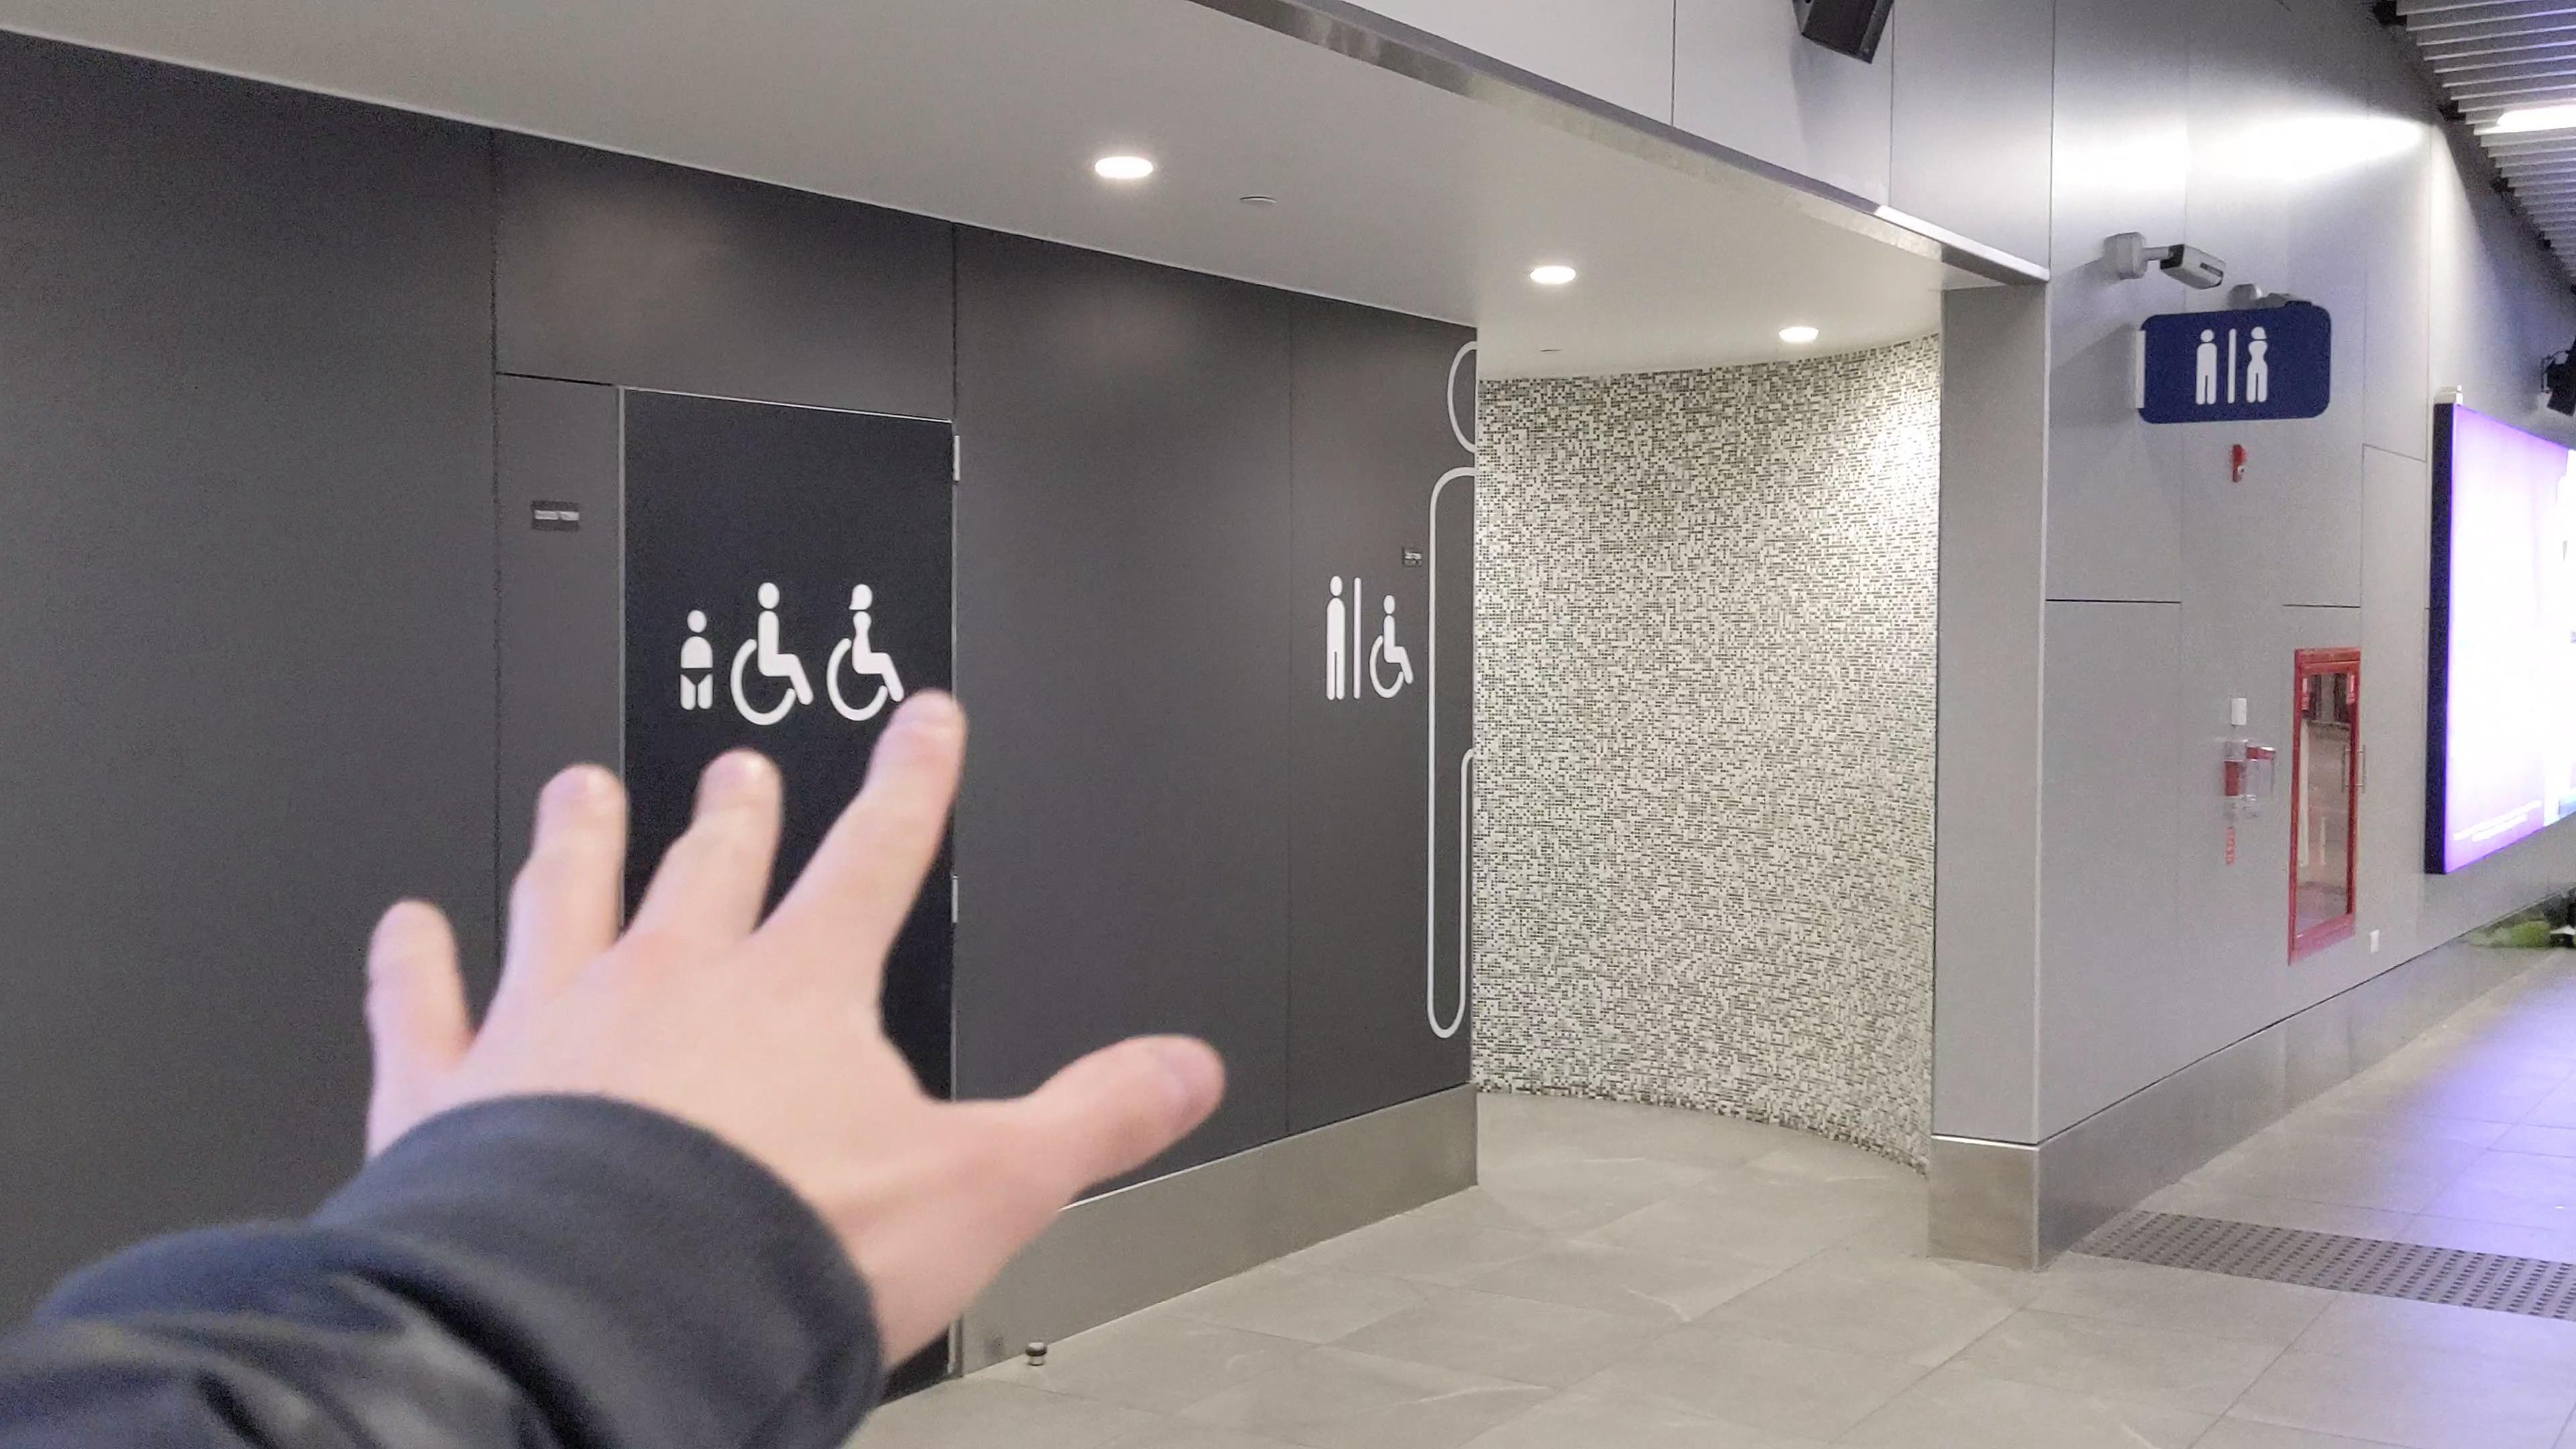bathrooms: (2192, 322, 2273, 410)
handicapped symbol: (729, 578, 812, 729), (827, 580, 904, 723), (1366, 592, 1415, 699)
